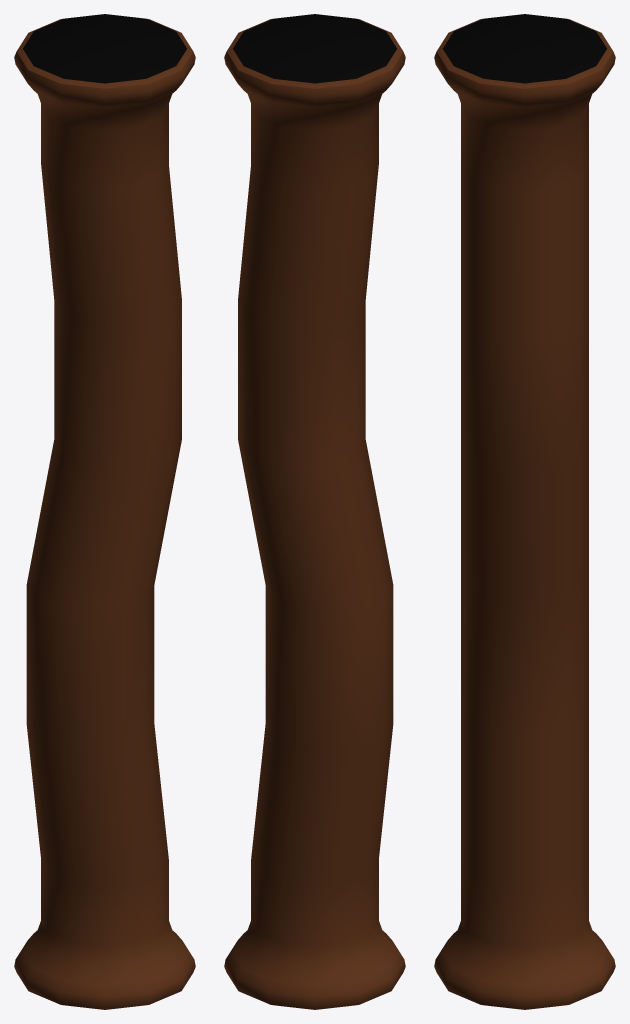
The model's file is Pipe_4m_Bent.fbx.
The picture shows the model from 3 angles, left to right: view 1: azimuth 30°, elevation 25°; view 2: azimuth 150°, elevation 25°; view 3: azimuth 270°, elevation 25°; orthographic projection.
Parts seen in each view (by area): view 1: Pipe_4m_Bent; view 2: Pipe_4m_Bent; view 3: Pipe_4m_Bent.
Boxes of the visible parts, x1=… form: Pipe_4m_Bent: x1=14, y1=14, x2=195, y2=1009; Pipe_4m_Bent: x1=224, y1=14, x2=405, y2=1009; Pipe_4m_Bent: x1=434, y1=14, x2=615, y2=1009.
Size of the model in its own units: 71.06 by 400 by 71.06.
